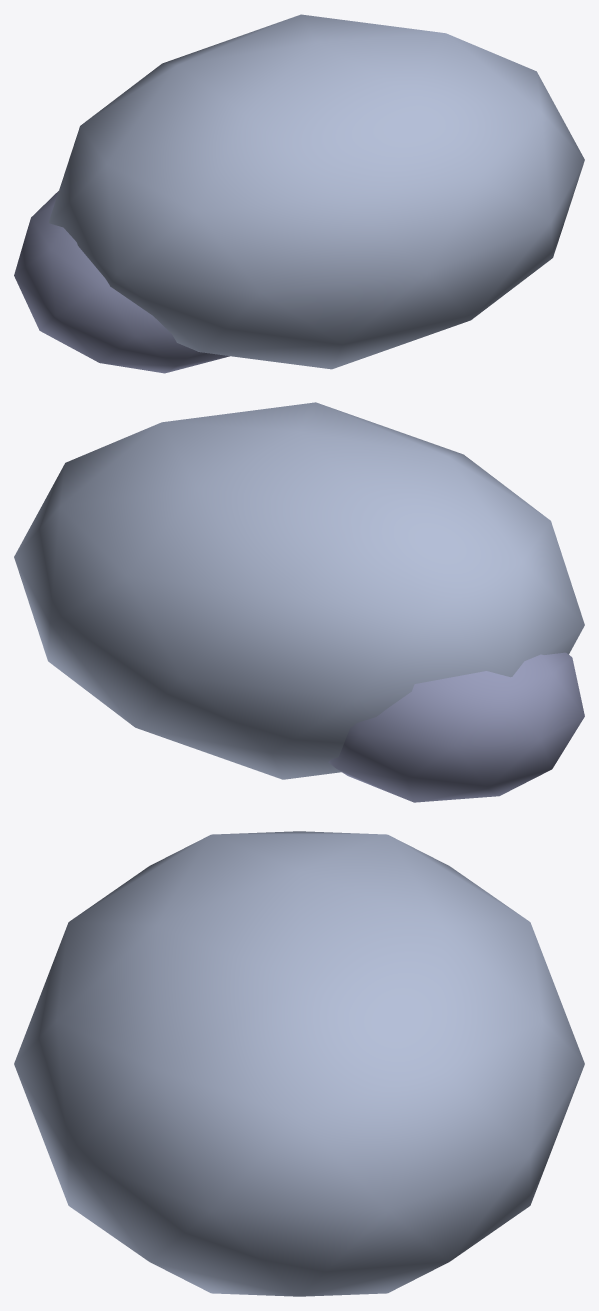
The model's file is rock.glb.
3 views of the same model, one above another, from view 1: azimuth 30°, elevation 25°; view 2: azimuth 150°, elevation 25°; view 3: azimuth 270°, elevation 25° (orthographic). The views are drawn at different scales.
Parts seen in each view (by area): view 1: RoundedRock_0, RoundedRock_1; view 2: RoundedRock_0, RoundedRock_1; view 3: RoundedRock_0.
Part boxes in pixels (bbox=[...]): RoundedRock_0: bbox=[48, 14, 584, 369]; RoundedRock_1: bbox=[14, 191, 229, 373]; RoundedRock_0: bbox=[14, 402, 584, 779]; RoundedRock_1: bbox=[328, 652, 584, 802]; RoundedRock_0: bbox=[14, 831, 584, 1296].
Size of the model in its own units: 2.03 by 1.16 by 1.56.
